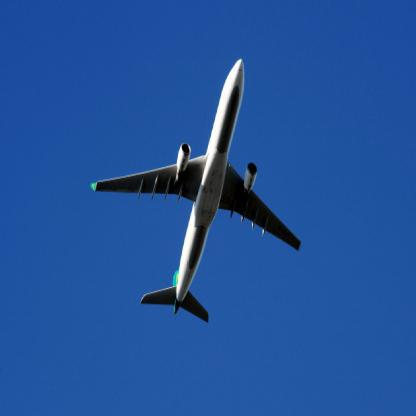CIV_Plane: (86, 54, 302, 324)
